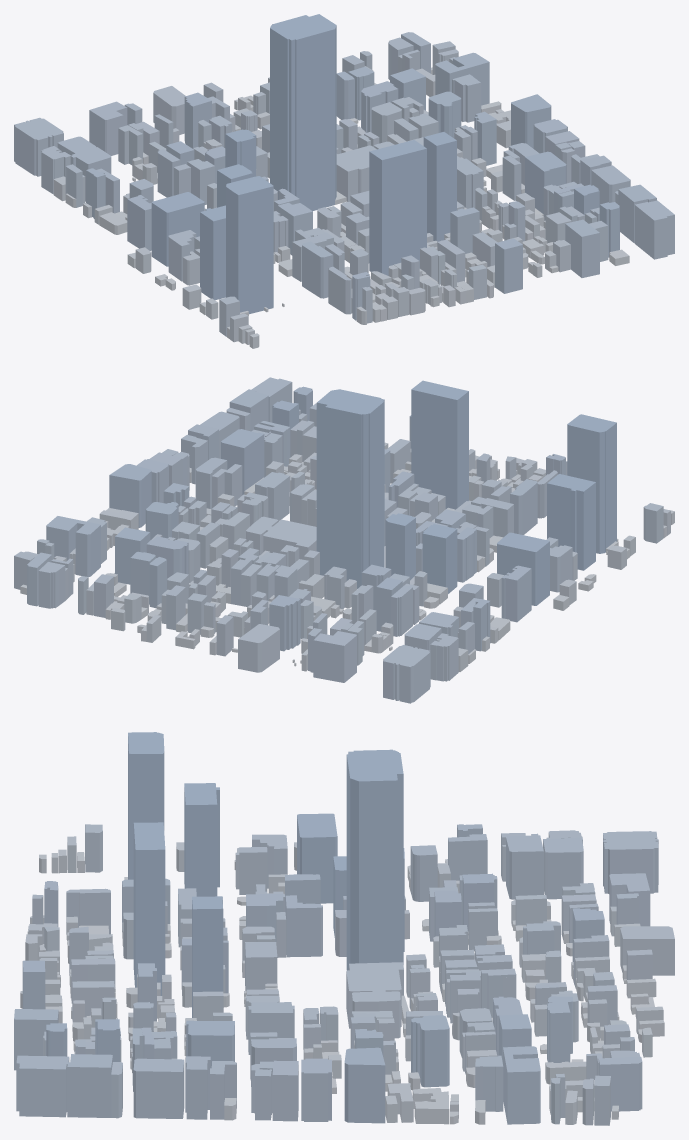
3 views of the same model, one above another, from view 1: azimuth 30°, elevation 25°; view 2: azimuth 150°, elevation 25°; view 3: azimuth 270°, elevation 25° (orthographic). The views are drawn at different scales.
Bounding box in the file's own units: 496 × 190 × 529.
